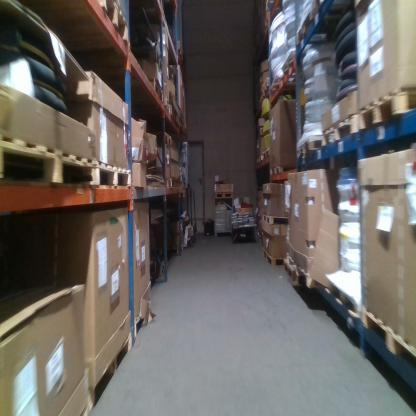pallet: (1, 134, 94, 194), (90, 330, 133, 411), (361, 305, 416, 365), (358, 86, 415, 134), (323, 275, 361, 328), (325, 112, 358, 150), (102, 1, 129, 43), (268, 57, 295, 98), (93, 161, 132, 189), (131, 299, 150, 346), (295, 267, 321, 293), (296, 134, 324, 157), (262, 248, 290, 267), (283, 255, 300, 283), (145, 74, 161, 101), (263, 214, 290, 227), (259, 77, 269, 102), (268, 166, 286, 177), (162, 130, 174, 145), (214, 193, 234, 202), (262, 147, 271, 159)
